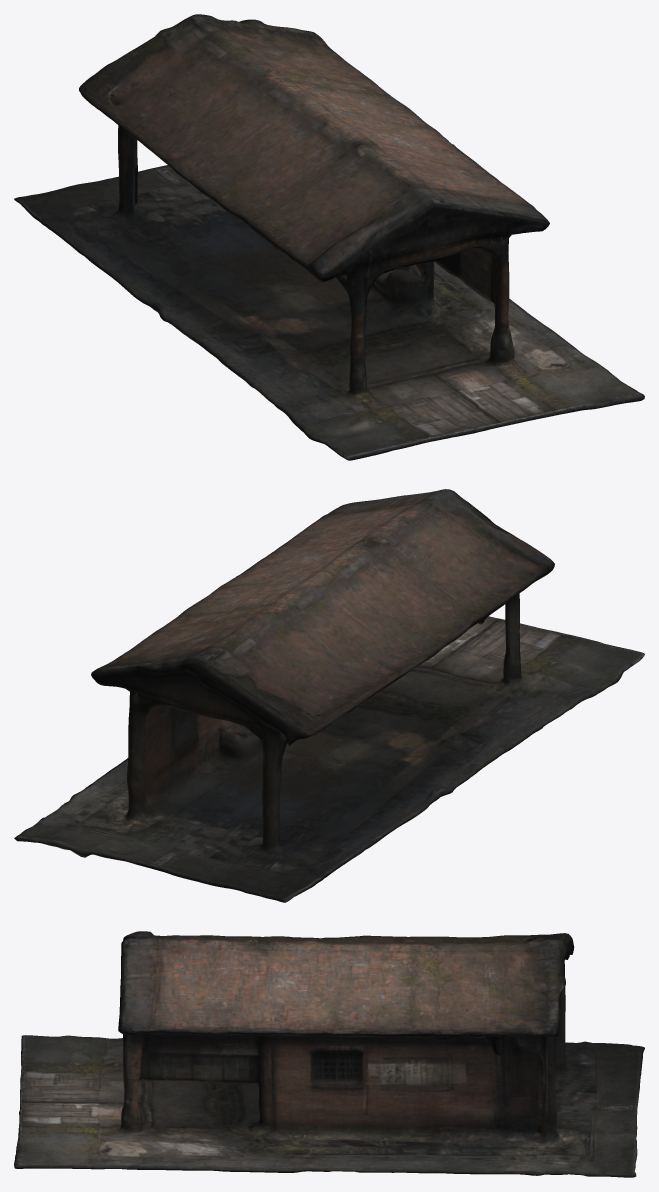
The model's file is Night_Station_0423102249_texture.fbx.
The picture shows the model from 3 angles, top to bottom: view 1: azimuth 30°, elevation 25°; view 2: azimuth 150°, elevation 25°; view 3: azimuth 270°, elevation 25°; orthographic projection. The views are drawn at different scales.
Visible parts, largest first — view 1: Mesh_0.001; view 2: Mesh_0.001; view 3: Mesh_0.001.
Part boxes in pixels (bbox=[...]): Mesh_0.001: bbox=[14, 14, 644, 460]; Mesh_0.001: bbox=[14, 489, 644, 902]; Mesh_0.001: bbox=[14, 931, 644, 1177].
Size of the model in its own units: 100 by 60.46 by 200.
1 material, 1 textured.
